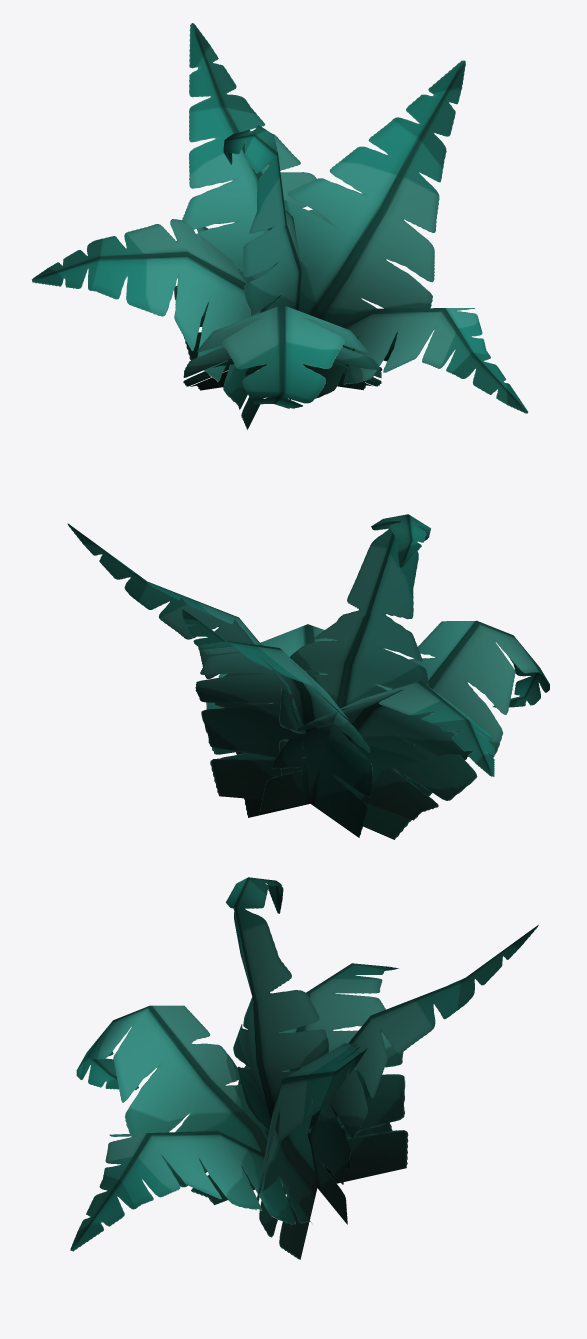
The model's file is F_W_O_plants_001.fbx.
3 views of the same model, one above another, from view 1: azimuth 30°, elevation 25°; view 2: azimuth 150°, elevation 25°; view 3: azimuth 270°, elevation 25° (orthographic). The views are drawn at different scales.
Visible parts, largest first — view 1: F_W_O_plants_001; view 2: F_W_O_plants_001; view 3: F_W_O_plants_001.
Boxes of the visible parts, bbox=[...] form: F_W_O_plants_001: bbox=[32, 23, 528, 429]; F_W_O_plants_001: bbox=[67, 514, 549, 839]; F_W_O_plants_001: bbox=[70, 877, 538, 1259].
Size of the model in its own units: 7.93 by 4.49 by 6.92.
